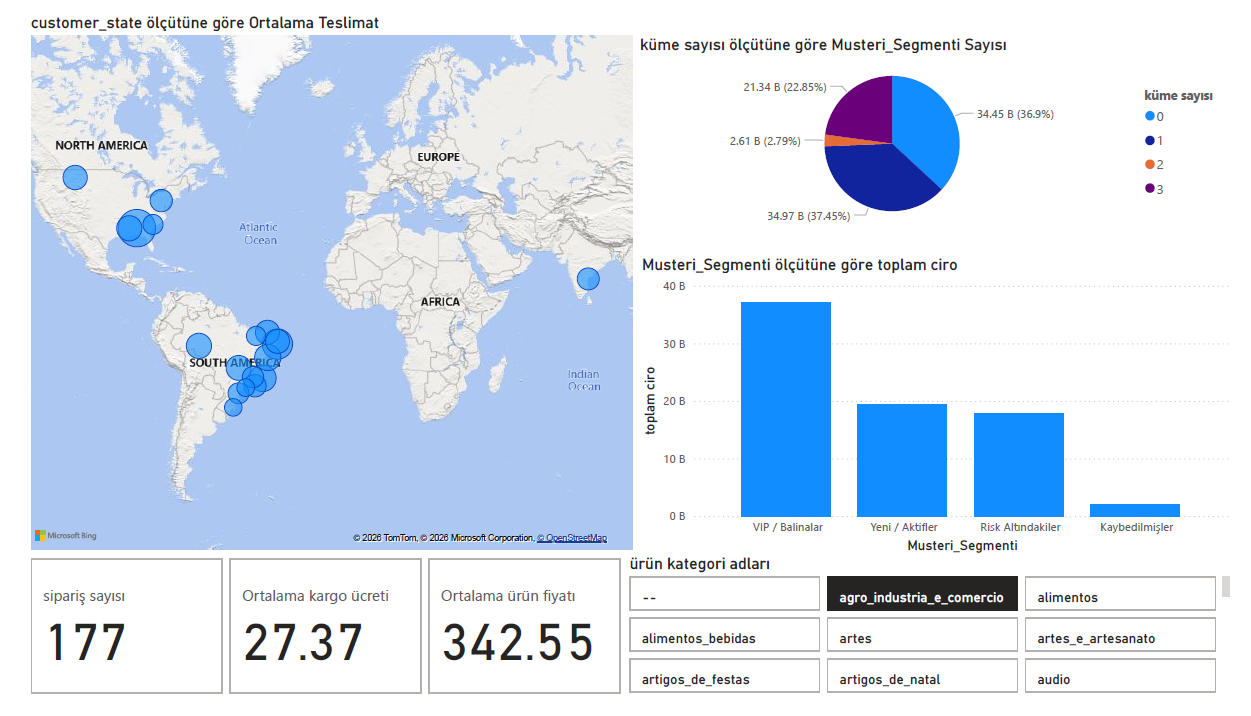

Layout of this report page (visuals, bound fields, positions):
{"tool":"powerbi","page":{"name":"1. sayfa","canvas":[1280,720],"ordinal":0},"visuals":[{"type":"map","fields":{"Category":["datamart.customer_state"],"Size":["datamart.Ortalama Teslimat"]},"box":[9.6,0,642.2,569.5],"z":0},{"type":"columnChart","fields":{"Category":["rfm.Musteri_Segmenti"],"Y":["datamart.toplam ciro"]},"box":[652,254,628,319],"z":1000},{"type":"advancedSlicerVisual","fields":{"Values":["datamart.product_category_name"]},"box":[639.5,569.5,640.8,150.9],"z":2000},{"type":"pieChart","fields":{"Series":["rfm.Cluster"],"Y":["CountNonNull(rfm.Musteri_Segmenti)"]},"box":[650,22.5,630,210],"z":3000},{"type":"cardVisual","fields":{"Data":["datamart.sipariş sayısı","Avg(datamart.shipping_cost)","Avg(datamart.product_price)"]},"box":[10,569,629,151],"z":4000}]}

Visuals, with their boxes in screenshot pixels (x1, y1, x2, y2), scaled from the page's 1280x720 canvas onto the 1251x716 screenshot:
map - datamart.customer_state x datamart.Ortalama Teslimat: {"left": 9, "top": 0, "right": 637, "bottom": 566}
columnChart - rfm.Musteri_Segmenti x datamart.toplam ciro: {"left": 637, "top": 253, "right": 1250, "bottom": 570}
advancedSlicerVisual - datamart.product_category_name: {"left": 625, "top": 566, "right": 1250, "bottom": 715}
pieChart - rfm.Cluster x CountNonNull(rfm.Musteri_Segmenti): {"left": 635, "top": 22, "right": 1250, "bottom": 231}
cardVisual - datamart.sipariş sayısı x Avg(datamart.shipping_cost): {"left": 10, "top": 566, "right": 625, "bottom": 715}
